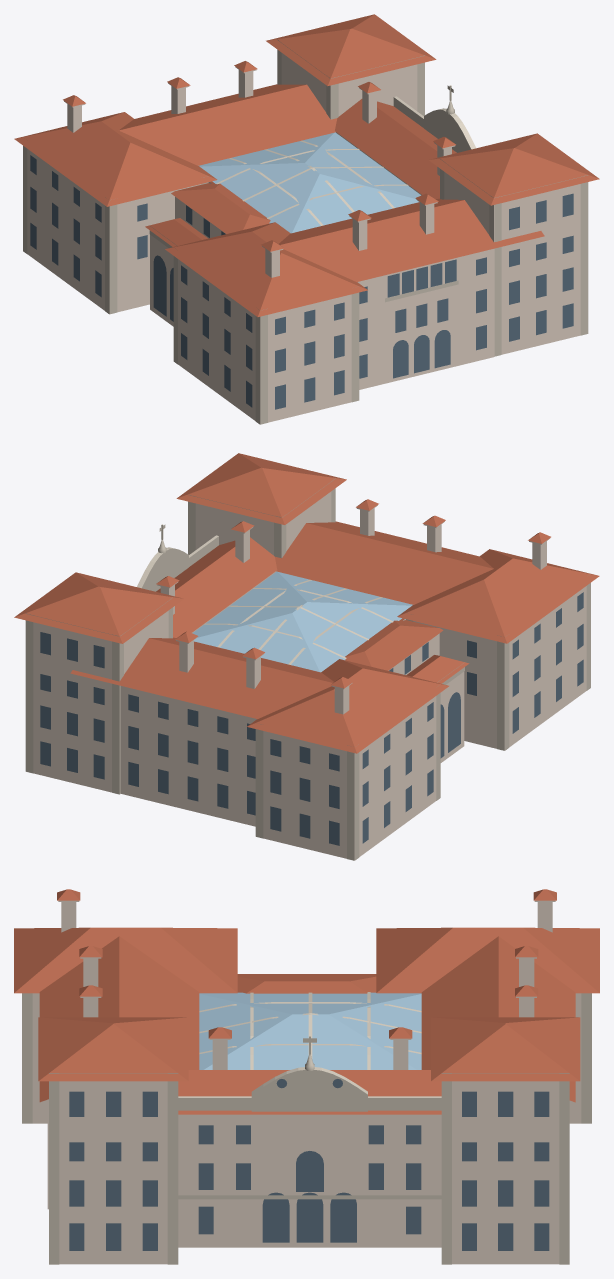
File: mia-vizcaya.glb
3 views of the same model, one above another, from view 1: azimuth 30°, elevation 25°; view 2: azimuth 150°, elevation 25°; view 3: azimuth 270°, elevation 25° (orthographic). The views are drawn at different scales.
Visible parts, largest first — view 1: Vizcaya Museum and Gardens; view 2: Vizcaya Museum and Gardens; view 3: Vizcaya Museum and Gardens.
Boxes of the visible parts, left/top/right/bottom form: Vizcaya Museum and Gardens: left=14, top=14, right=599, bottom=424; Vizcaya Museum and Gardens: left=14, top=453, right=599, bottom=860; Vizcaya Museum and Gardens: left=14, top=889, right=599, bottom=1264.
Size of the model in its own units: 42 by 20.2 by 50.3.
